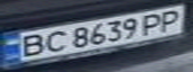3: (103, 18, 127, 43)
6: (87, 20, 109, 46)
8: (69, 24, 90, 49)
9: (118, 16, 145, 39)
B: (12, 32, 48, 58)
C: (39, 29, 69, 55)
P: (154, 7, 190, 33), (136, 11, 169, 35)
